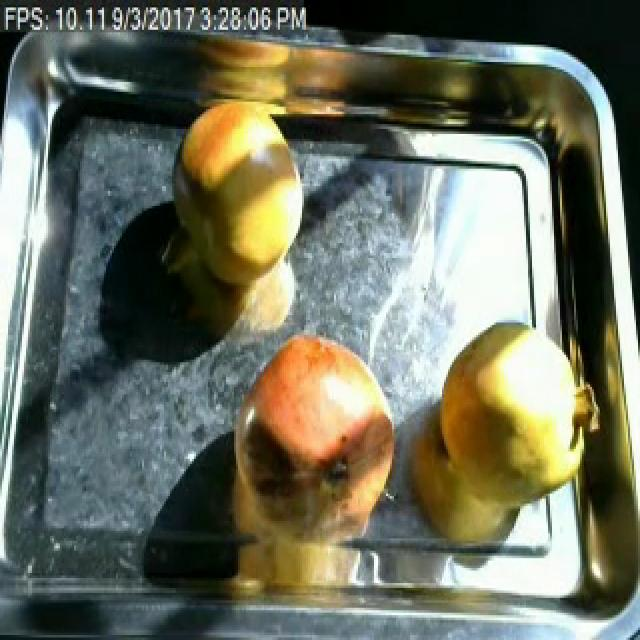fruit: (222, 322, 408, 568), (428, 305, 600, 526), (166, 92, 310, 296)
